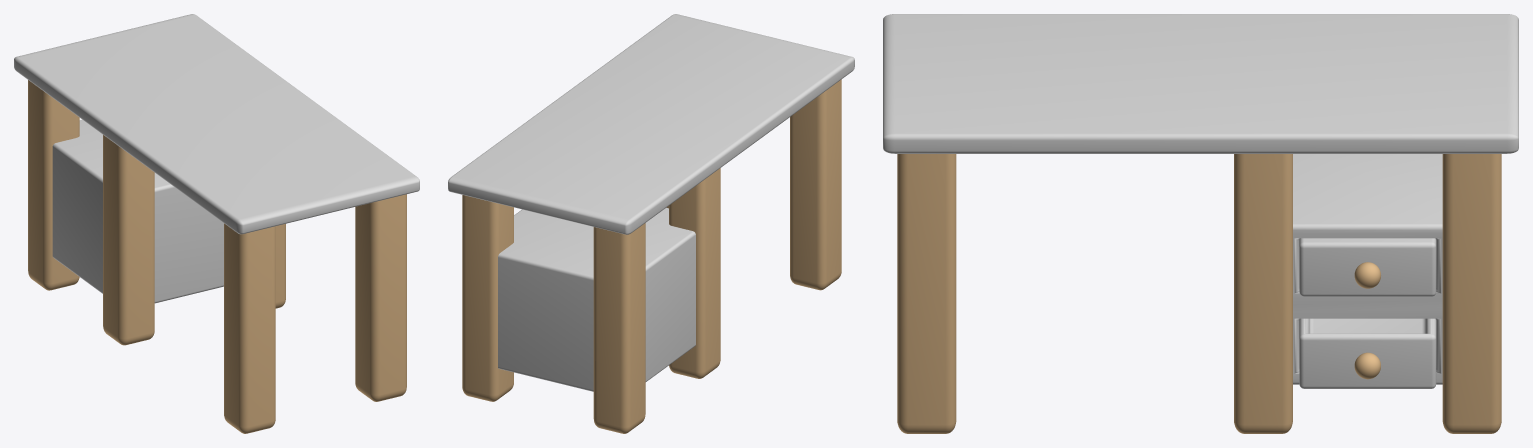
Rendered from simple_desk_B.glb.
The picture shows the model from 3 angles, left to right: view 1: azimuth 30°, elevation 25°; view 2: azimuth 150°, elevation 25°; view 3: azimuth 270°, elevation 25°; orthographic projection. The views are drawn at different scales.
Parts seen in each view (by area): view 1: simple_desk_B; view 2: simple_desk_B; view 3: simple_desk_B.
Boxes of the visible parts, left/top/right/bottom form: simple_desk_B: left=14, top=14, right=419, bottom=433; simple_desk_B: left=448, top=14, right=854, bottom=433; simple_desk_B: left=883, top=14, right=1518, bottom=433.
Bounding box in the file's own units: 0.8503 × 0.8604 × 1.61.
